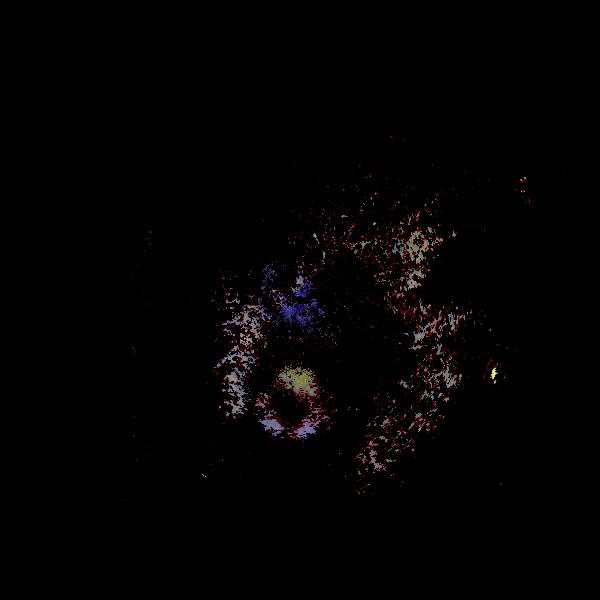roost: (252, 366, 333, 447)
